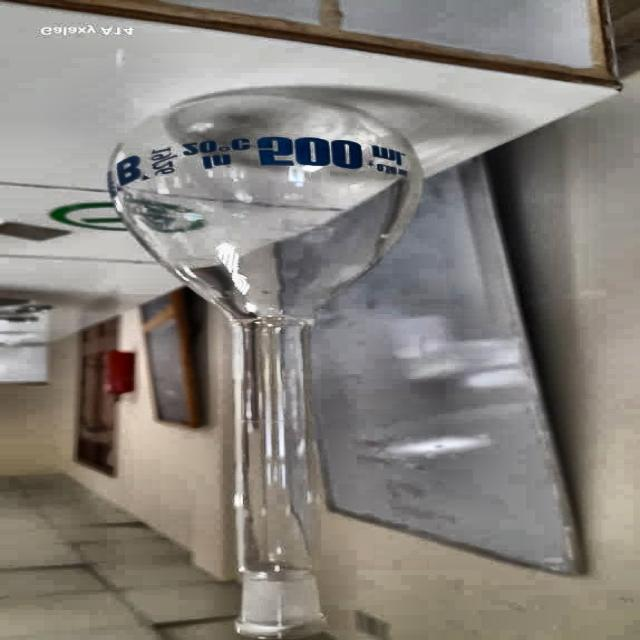Volumetric flask: (105, 88, 435, 636)
